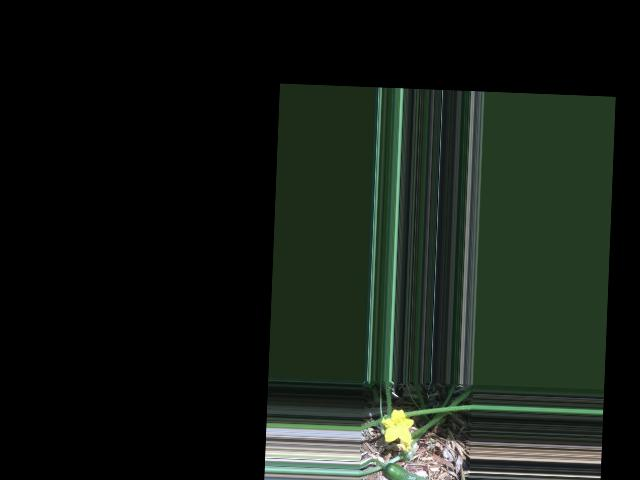cucumber: (382, 462, 448, 480)
